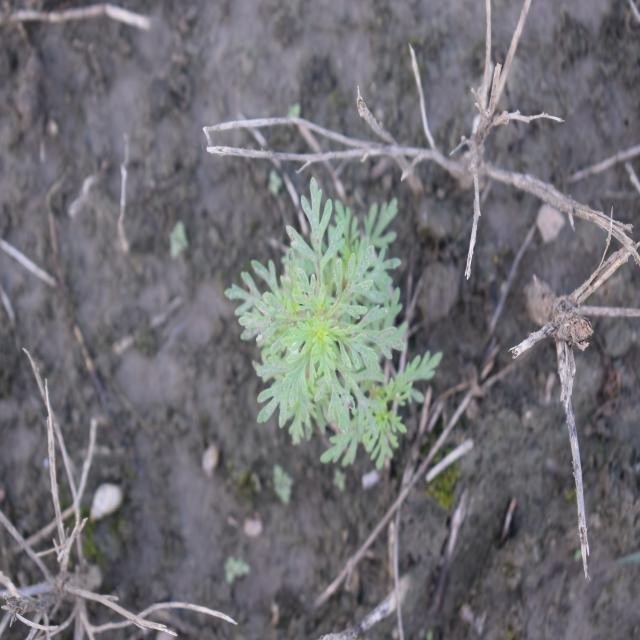Ragweed: (223, 175, 445, 472)
